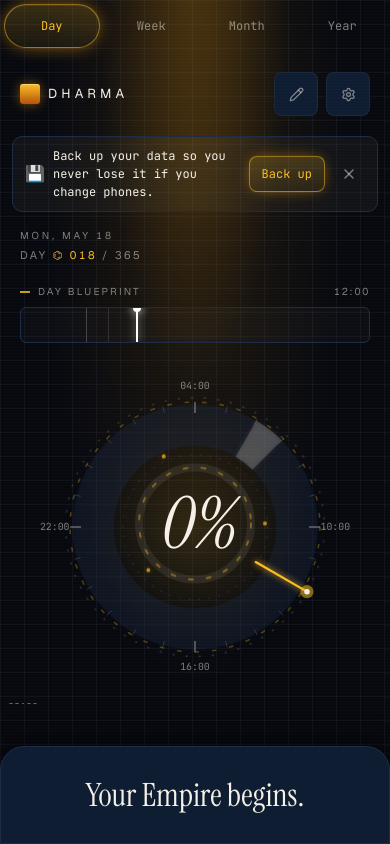
Test: C-m9e-010: AppShell — tap a month in YearView opens MonthView at that month › tapping a fully-future month opens MonthView at that month without crash
The image size is (390, 844).
(page scrolled)
Click the tab "Year" at (342, 26), box [294, 0, 389, 52]
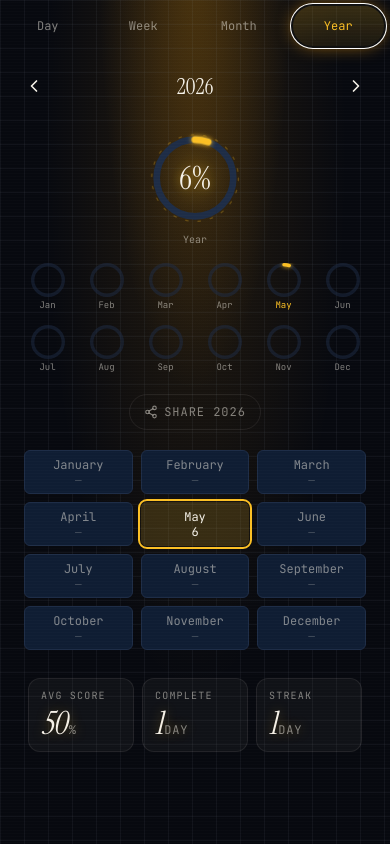
Tap December 2026 (fully future)
Click the button with aria-label "December 2026" at (312, 628), box [257, 606, 366, 650]
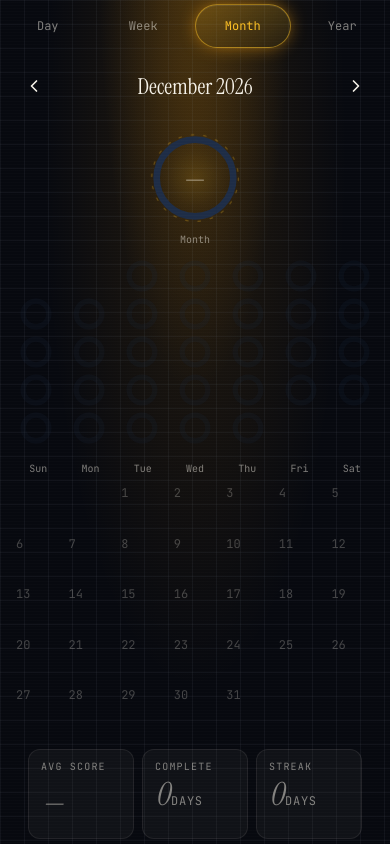
Check: the table is shown, box [12, 457, 378, 733]
Check: the heading reads "December 2026", box [137, 72, 253, 100]
